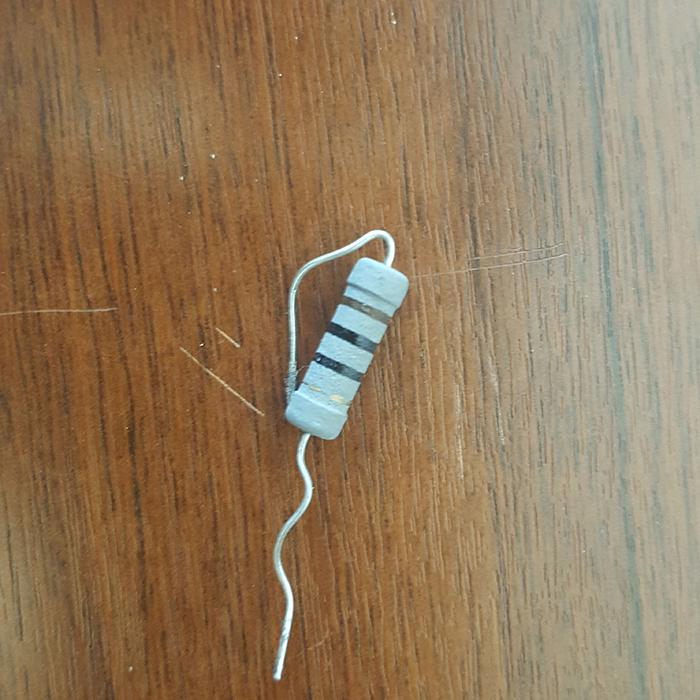resistor: (285, 255, 409, 440)
